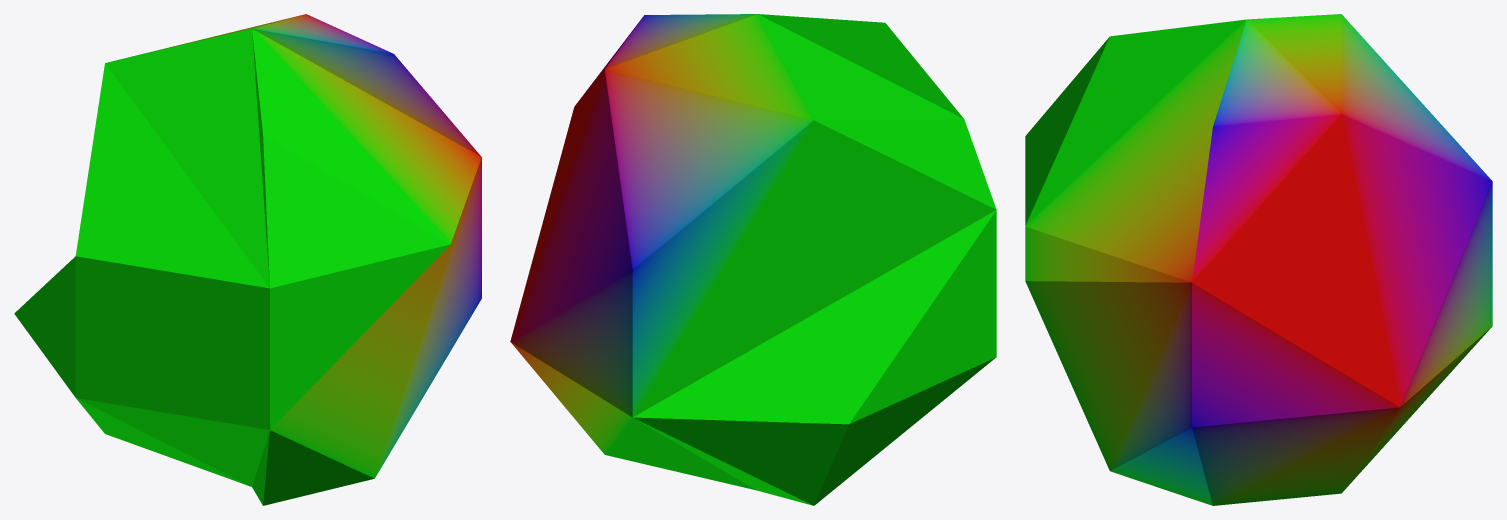
The model's file is all_12.obj.
3 views of the same model, side by side, from view 1: azimuth 30°, elevation 25°; view 2: azimuth 150°, elevation 25°; view 3: azimuth 270°, elevation 25° (orthographic). The views are drawn at different scales.
Bounding box in the file's own units: 1.85 × 2 × 1.81.
